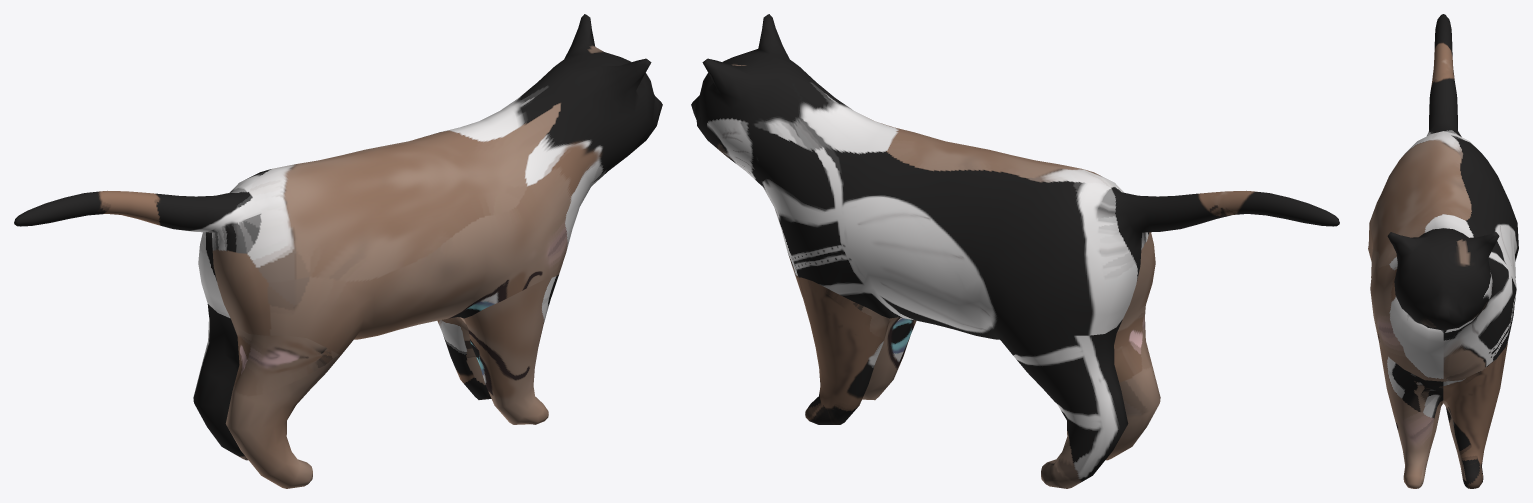
Rendered from Cat_low.fbx.
3 views of the same model, side by side, from view 1: azimuth 30°, elevation 25°; view 2: azimuth 150°, elevation 25°; view 3: azimuth 270°, elevation 25° (orthographic). The views are drawn at different scales.
Parts seen in each view (by area): view 1: Cat_low; view 2: Cat_low; view 3: Cat_low.
Boxes of the visible parts, <box> form: Cat_low: <box>14,14,662,488</box>; Cat_low: <box>691,14,1339,488</box>; Cat_low: <box>1368,14,1518,488</box>.
Size of the model in its own units: 630 by 328 by 150.
